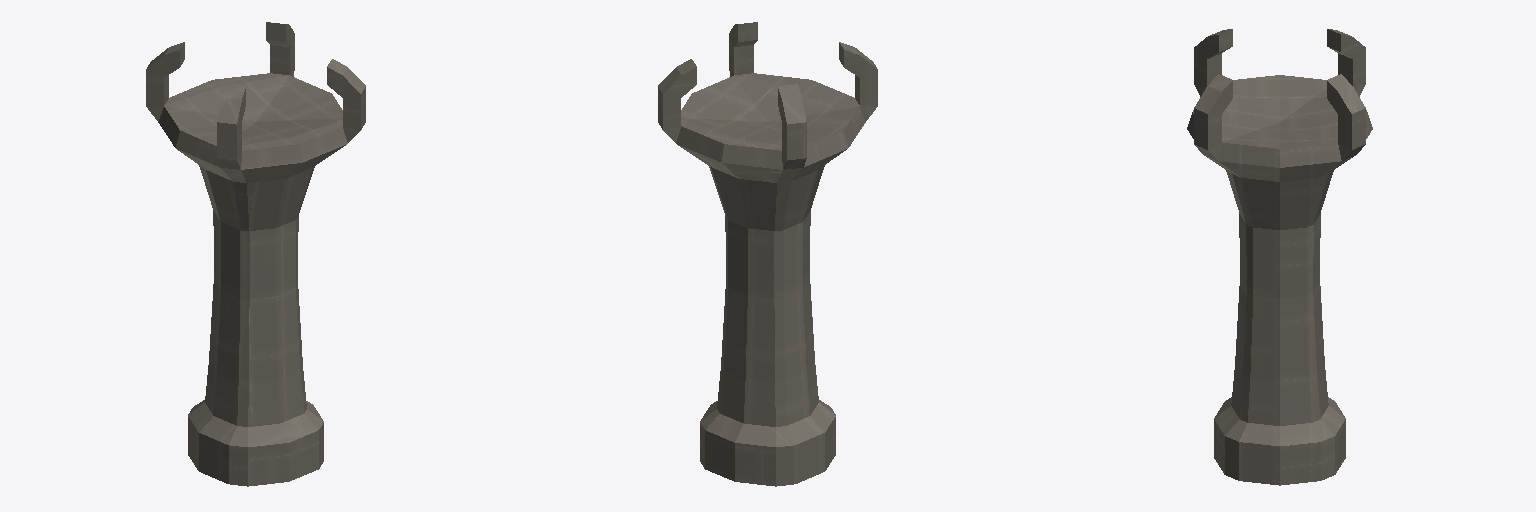
3 views of the same model, side by side, from view 1: azimuth 30°, elevation 25°; view 2: azimuth 150°, elevation 25°; view 3: azimuth 270°, elevation 25° (orthographic).
Bounding box in the file's own units: 2.31 × 5.52 × 2.31.
Materials: 1 (1 with a texture image).